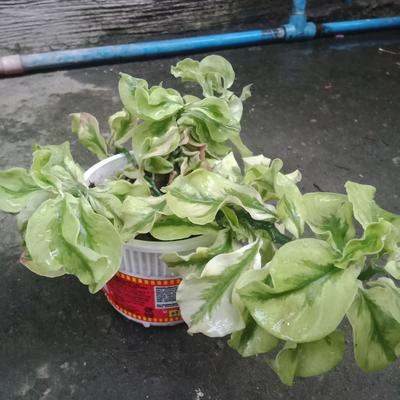Pothos plant: (69, 94, 348, 299)
